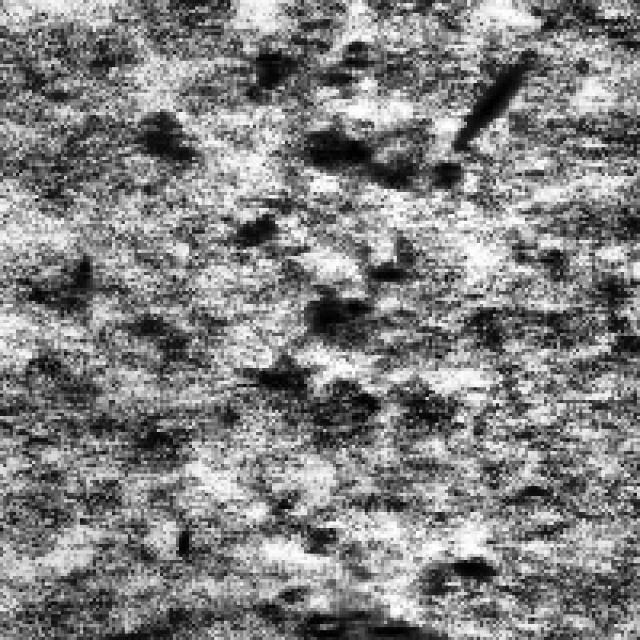Crazing: (240, 218, 432, 426), (204, 93, 393, 288), (266, 518, 490, 634), (291, 26, 445, 176)
